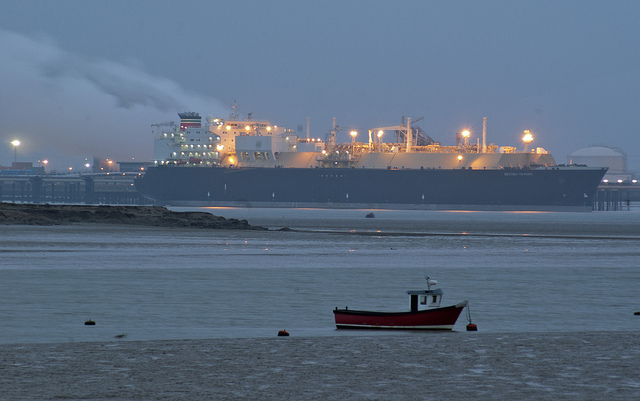LNG_ship: (138, 106, 606, 212)
fishing_boat: (332, 283, 477, 329)
